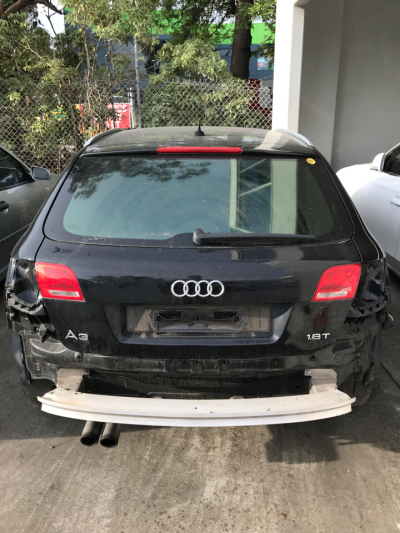audi: (167, 275, 228, 301)
